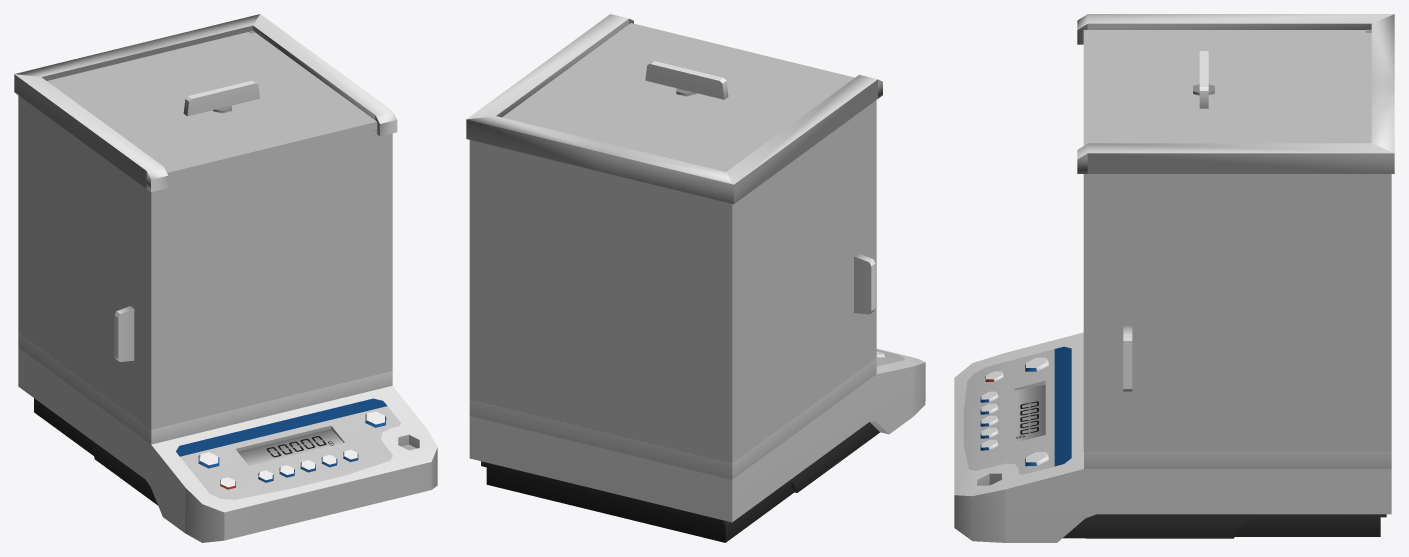
File: CR_sci_Scale.FBX
3 views of the same model, side by side, from view 1: azimuth 30°, elevation 25°; view 2: azimuth 150°, elevation 25°; view 3: azimuth 270°, elevation 25° (orthographic). The views are drawn at different scales.
Visible parts, largest first — view 1: Glass, CR_sci_Scale; view 2: Glass, CR_sci_Scale; view 3: Glass, CR_sci_Scale.
Boxes of the visible parts, x1,y1,x2,y2 form: Glass: (18,32,392,429); CR_sci_Scale: (14,14,437,542); Glass: (469,23,876,463); CR_sci_Scale: (466,14,925,542); Glass: (1083,30,1391,451); CR_sci_Scale: (954,14,1394,542).
Bounding box in the file's own units: 26.03 × 31.3 × 31.9.
